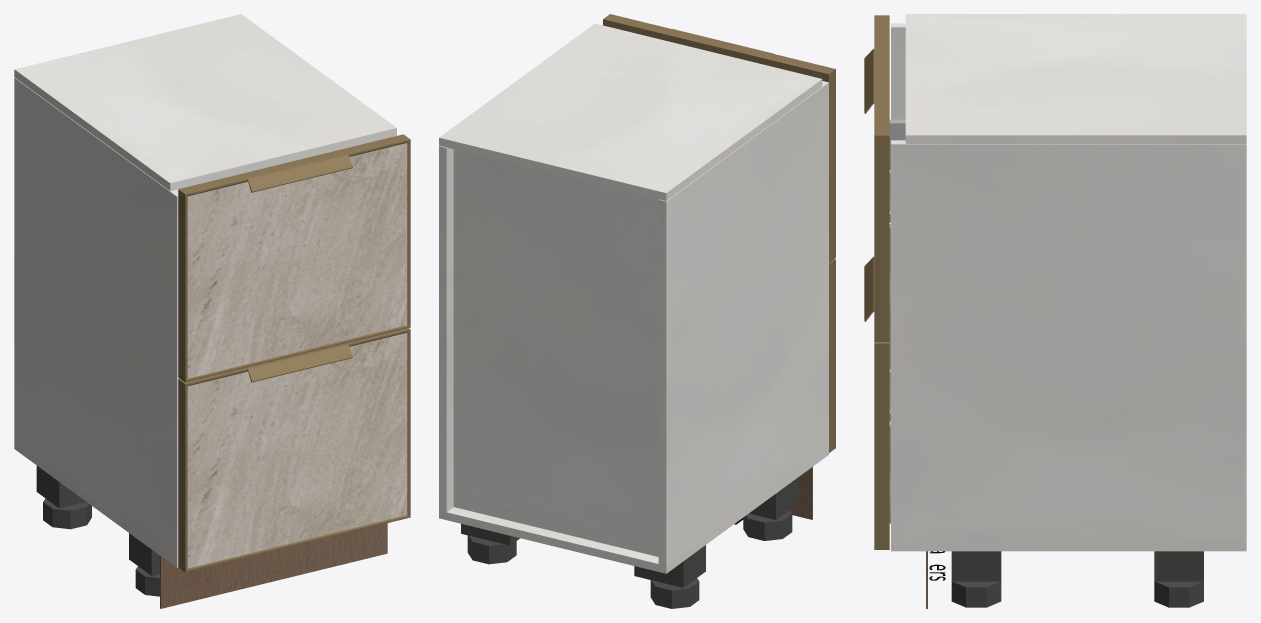
Rendered from BC-DW-TTS-ST-XXX-2HB-XXX-450-720-560-15.glb.
The picture shows the model from 3 angles, left to right: view 1: azimuth 30°, elevation 25°; view 2: azimuth 150°, elevation 25°; view 3: azimuth 270°, elevation 25°; orthographic projection. The views are drawn at different scales.
Parts seen in each view (by area): view 1: TP_node, Object_node_70, Object_node_68, TP_node_1, Object_node_72, ExtrSplGeo_node, Extrusion_node_4, Extrusion_node_11, ExtrSplGeo, TP, Foot, Plate (+9 smaller); view 2: TP_node_6, TP_node, TP_node_1, TP_node_0, TP, ExtrSplGeo_node, Extrusion_node_11, Extrusion_node_4, Plate, Foot, Foot_node_0, Foot_node (+5 smaller); view 3: TP_node_0, TP_node_1, TP, Extrusion_node_2, Extrusion_node_9, Plate_node_1, Plate_node, TP_node, ExtrSplGeo_node, Foot_node_1, Foot_node, ExtrSplGeo (+2 smaller).
Boxes of the visible parts, <box> form: TP_node: <box>14,77,179,559</box>; Object_node_70: <box>187,143,407,378</box>; Object_node_68: <box>187,333,407,568</box>; TP_node_1: <box>14,14,396,190</box>; Object_node_72: <box>160,523,387,608</box>; ExtrSplGeo_node: <box>241,149,352,192</box>; Extrusion_node_4: <box>178,379,187,572</box>; Extrusion_node_11: <box>178,189,187,382</box>; ExtrSplGeo: <box>246,343,352,382</box>; TP: <box>14,441,178,567</box>; Foot: <box>43,498,91,529</box>; Plate: <box>36,465,85,508</box>; TP_node_6: <box>453,149,658,556</box>; TP_node: <box>658,81,828,565</box>; TP_node_1: <box>439,23,822,200</box>; TP_node_0: <box>439,146,453,512</box>; TP: <box>439,447,828,573</box>; ExtrSplGeo_node: <box>665,29,773,65</box>; Extrusion_node_11: <box>822,69,835,262</box>; Extrusion_node_4: <box>829,259,835,452</box>; Plate: <box>634,545,705,587</box>; Foot: <box>650,578,699,608</box>; Foot_node_0: <box>743,510,792,540</box>; Foot_node: <box>467,535,516,564</box>; TP_node_0: <box>891,140,1246,542</box>; TP_node_1: <box>905,14,1246,143</box>; TP: <box>891,542,1246,551</box>; Extrusion_node_2: <box>874,343,889,549</box>; Extrusion_node_9: <box>874,135,889,341</box>; Plate_node_1: <box>951,551,1001,581</box>; Plate_node: <box>1154,551,1203,581</box>; TP_node: <box>891,23,905,119</box>; ExtrSplGeo_node: <box>864,48,889,113</box>; Foot_node_1: <box>951,581,1001,607</box>; Foot_node: <box>1154,581,1203,607</box>; ExtrSplGeo: <box>864,256,874,321</box>.
Size of what is drawn, in the model's own units: 0.45 by 0.82 by 0.6.
7 materials, 3 textured.
